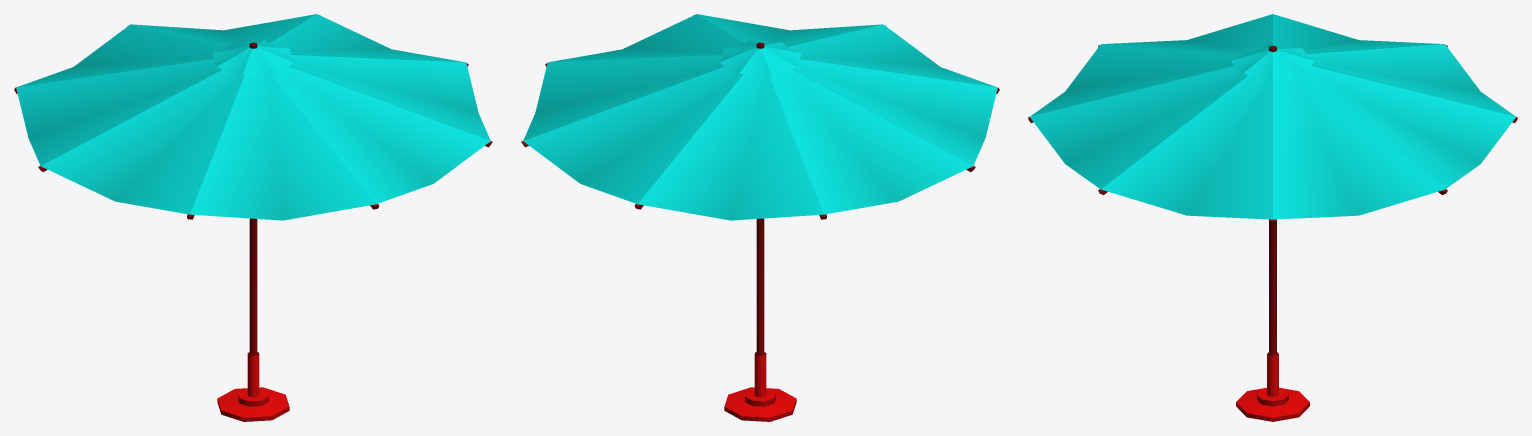
The model's file is WhiteParasol.glb.
3 views of the same model, side by side, from view 1: azimuth 30°, elevation 25°; view 2: azimuth 150°, elevation 25°; view 3: azimuth 270°, elevation 25° (orthographic).
Parts seen in each view (by area): view 1: WhiteParasol; view 2: WhiteParasol; view 3: WhiteParasol.
Part boxes in pixels (<box>): WhiteParasol: <box>14,14,492,421</box>; WhiteParasol: <box>521,14,999,421</box>; WhiteParasol: <box>1028,14,1517,421</box>.
Bounding box in the file's own units: 31.5 × 25.59 × 31.5.
